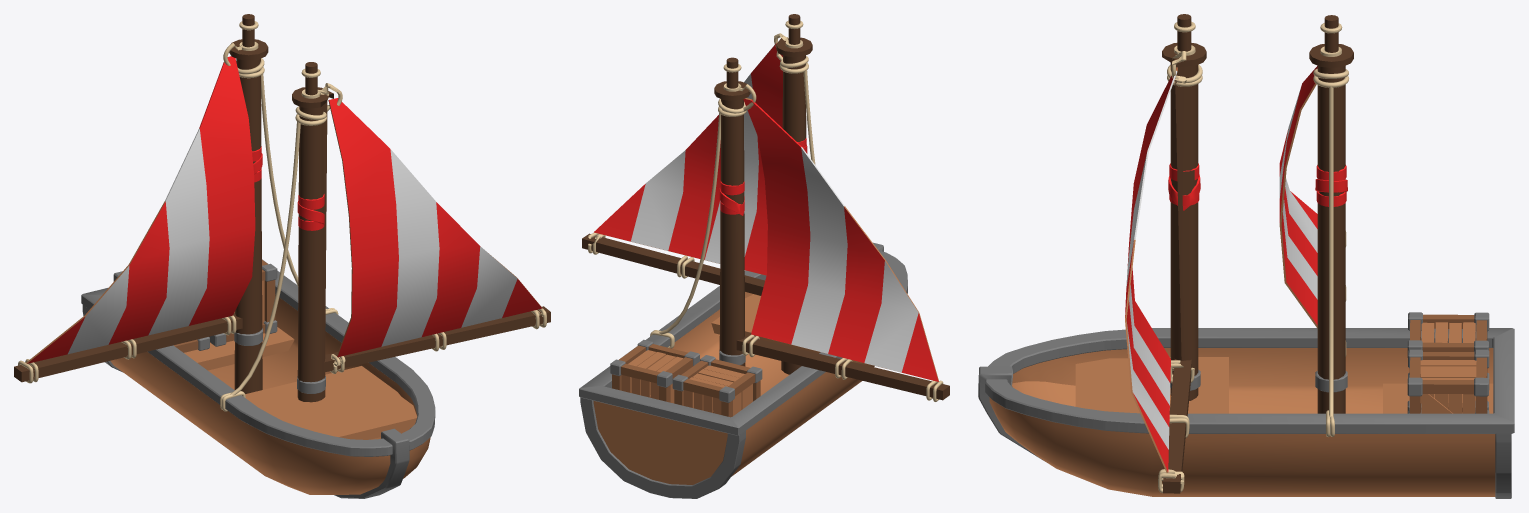
The model's file is MiddleShip.fbx.
3 renders of one model, left to right at view 1: azimuth 30°, elevation 25°; view 2: azimuth 150°, elevation 25°; view 3: azimuth 270°, elevation 25°, orthographic. The views are drawn at different scales.
Parts seen in each view (by area): view 1: MiddleShip; view 2: MiddleShip; view 3: MiddleShip.
Part boxes in pixels (x1,y1,x2,y2): MiddleShip: [14, 14, 550, 498]; MiddleShip: [579, 14, 949, 498]; MiddleShip: [978, 14, 1514, 498].
Size of the model in its own units: 316 by 271 by 281.
